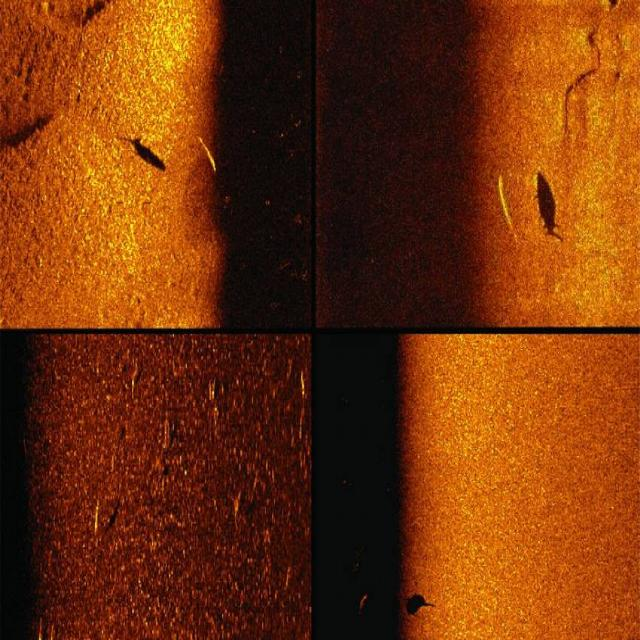fish: (494, 172, 522, 246), (195, 130, 218, 174), (89, 494, 101, 536)
